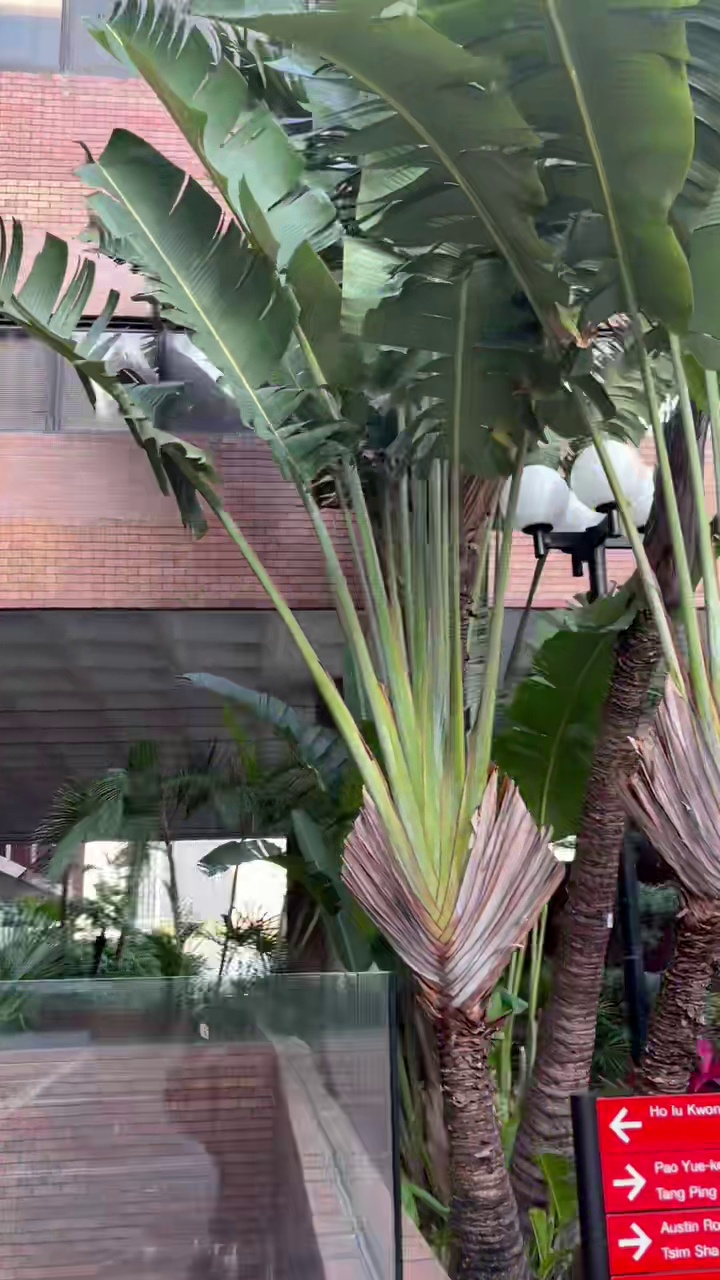Travellers-tree: (83, 0, 560, 1279)
